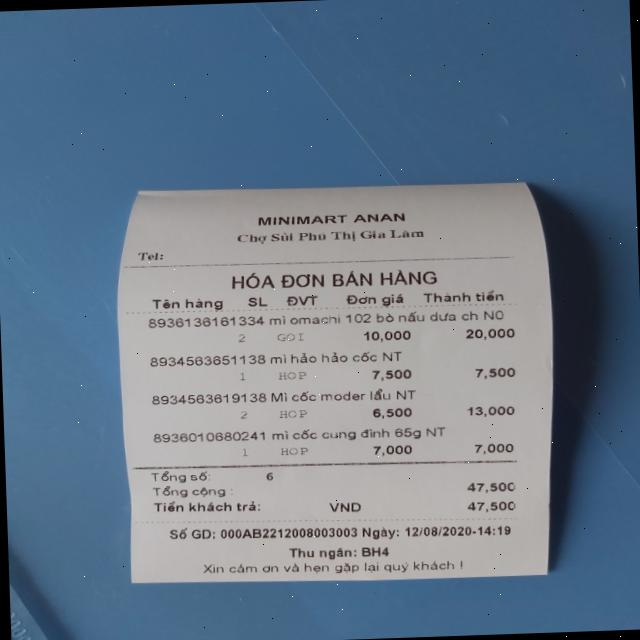Date: (405, 523, 473, 538)
Store_Name: (255, 208, 408, 230)
amount_number: (464, 476, 521, 494)
label_total: (153, 483, 230, 501)
